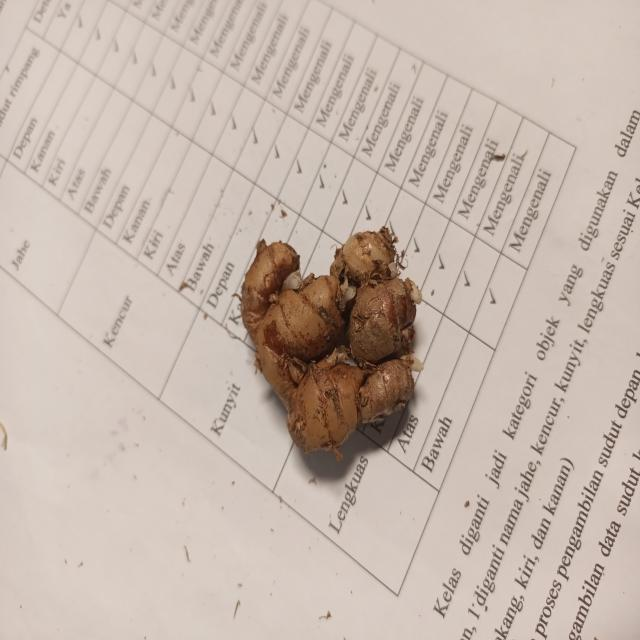ginger: (251, 230, 420, 448)
